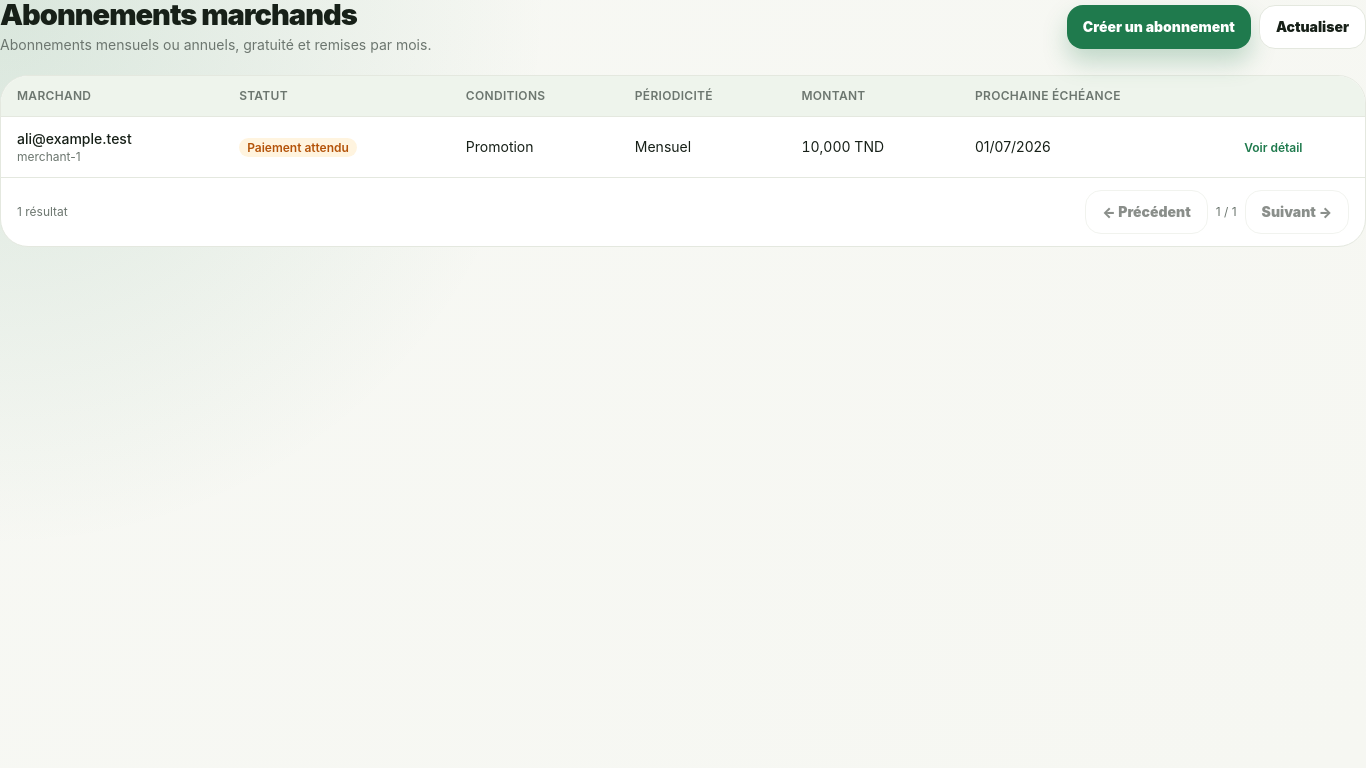
Test: AdminSubscriptionsPage › opens a read-only detail panel for an admin subscription
Click the button with aria-label "Voir le détail abonnement" at (1273,148), box [1244, 140, 1302, 156]
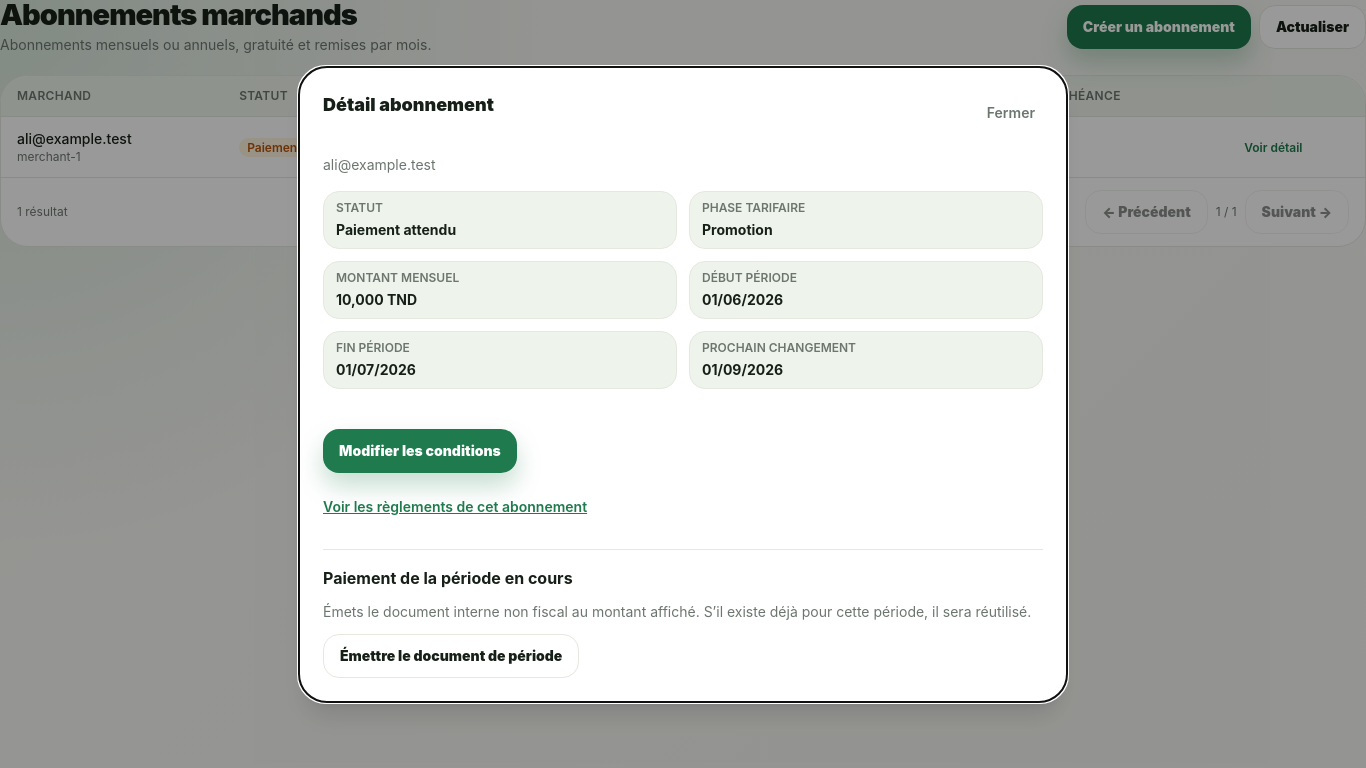
Result: the text "ali@example.test" is shown at [323, 156, 436, 172]
Result: the text "Phase tarifaire" is shown at [702, 200, 805, 214]
Result: the text "Promotion" is shown at [702, 220, 773, 238]
